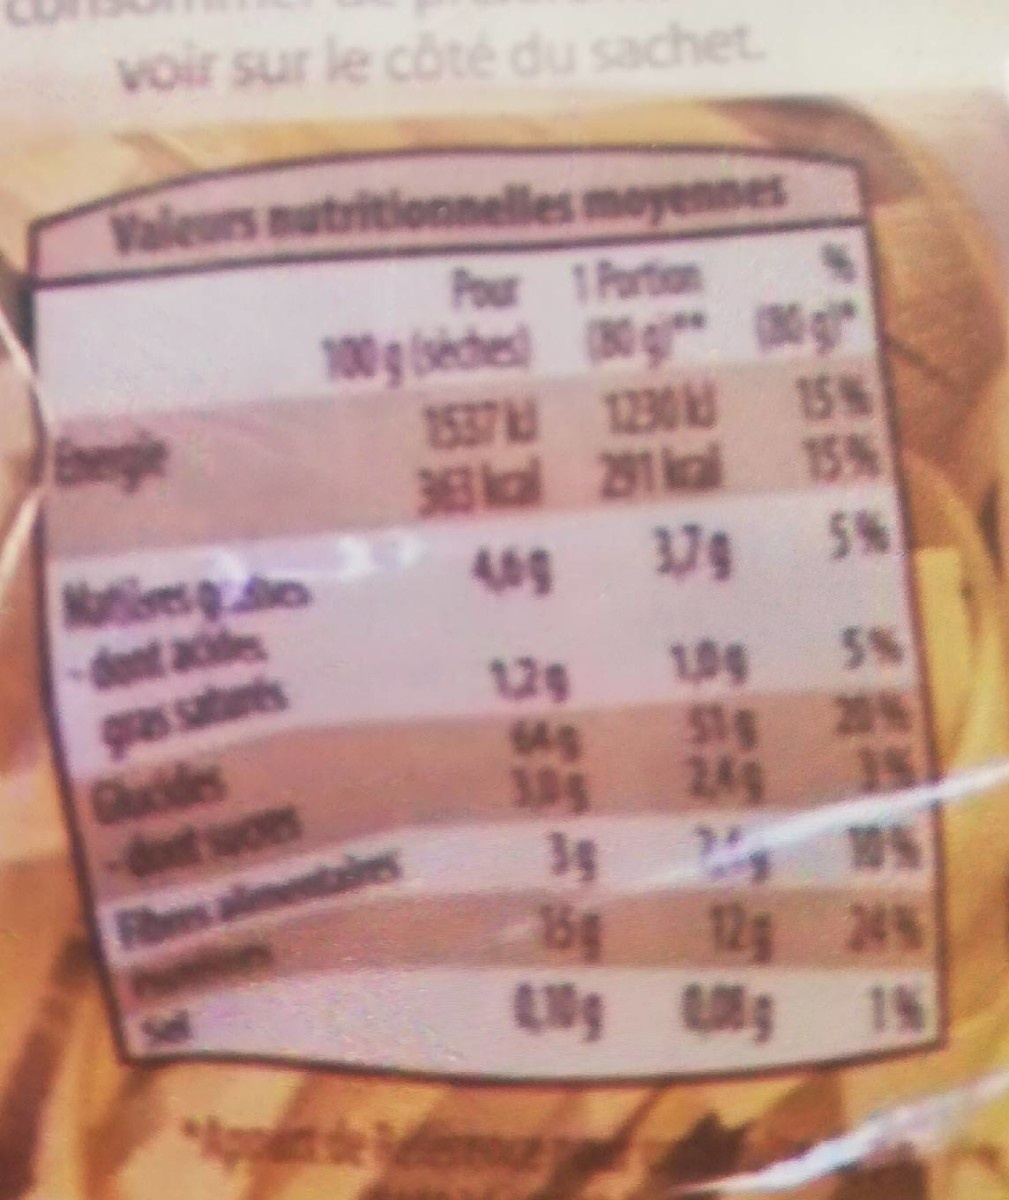table: (37, 148, 926, 1074)
